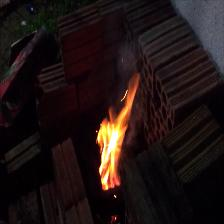fire: (95, 110, 125, 185)
